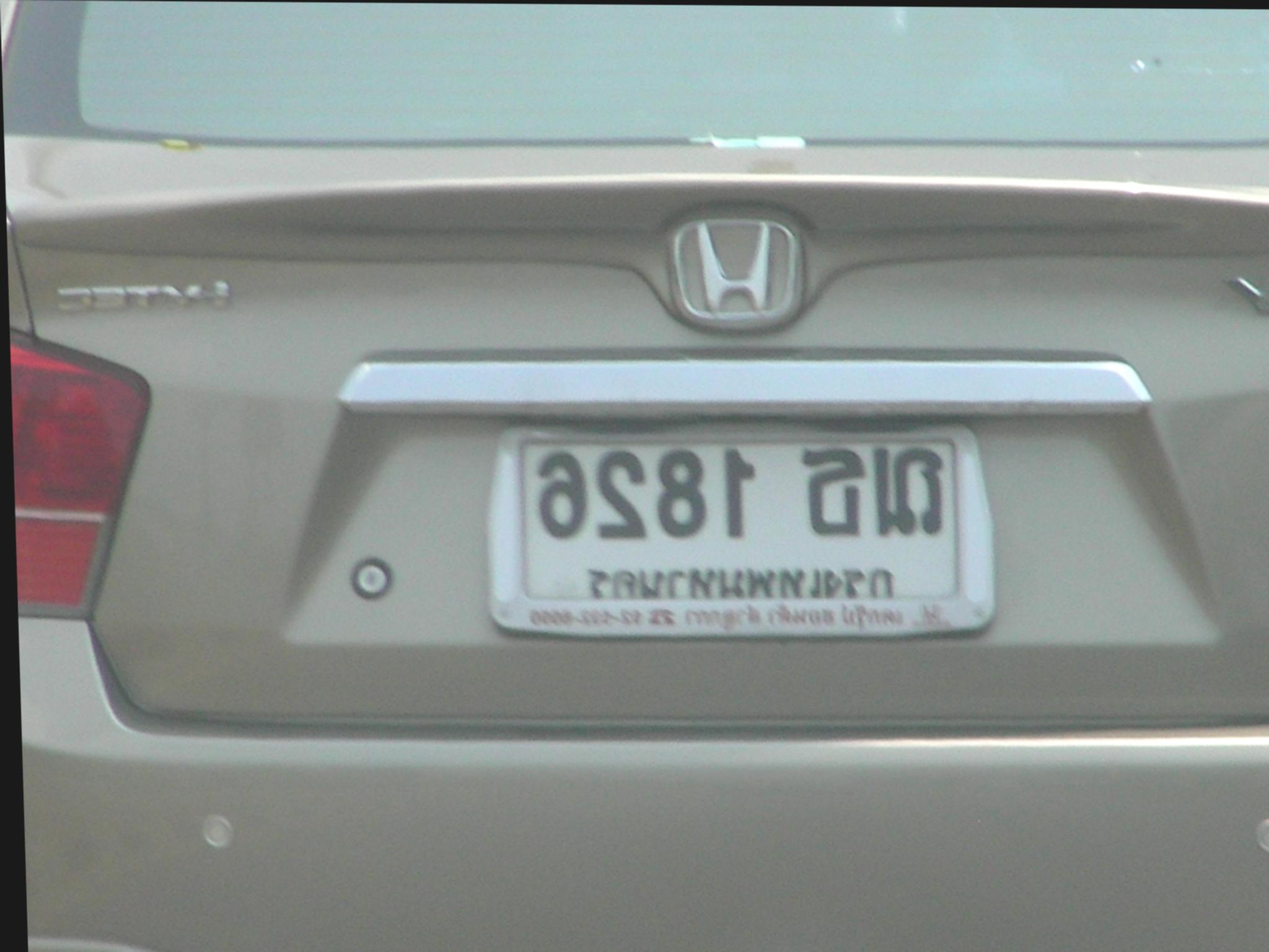License_Plate: (475, 418, 998, 627)
